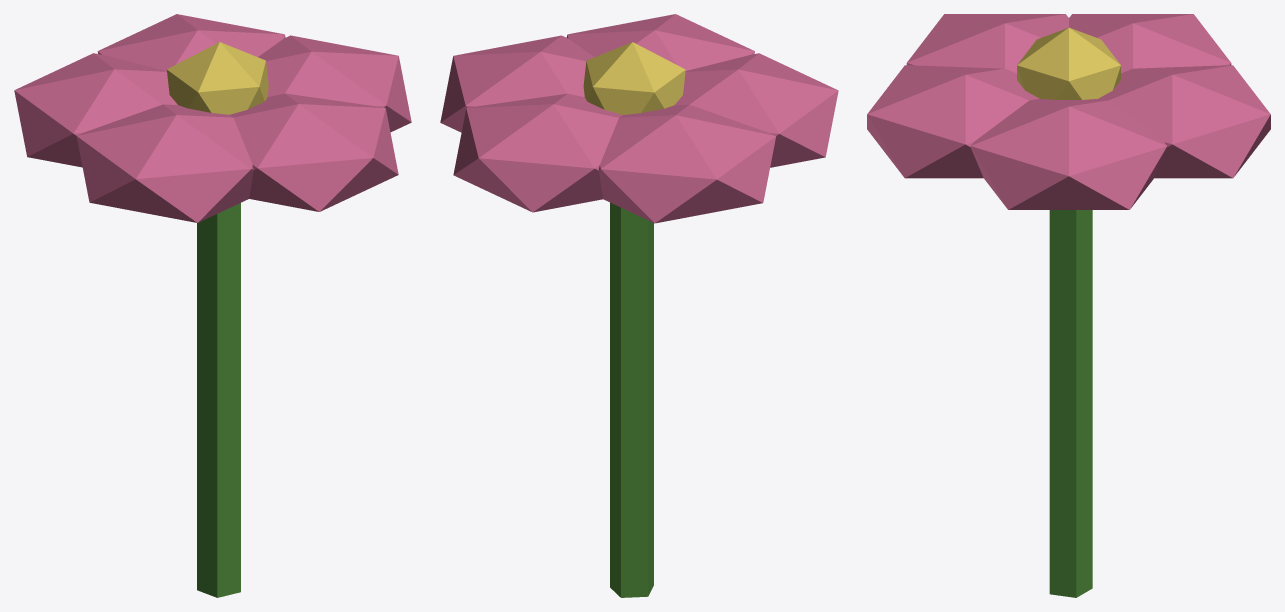
Rendered from flower_pink.glb.
3 views of the same model, side by side, from view 1: azimuth 30°, elevation 25°; view 2: azimuth 150°, elevation 25°; view 3: azimuth 270°, elevation 25° (orthographic). The views are drawn at different scales.
Visible parts, largest first — view 1: Cylinder; view 2: Cylinder; view 3: Cylinder.
Part boxes in pixels (x1,y1,x2,y2): Cylinder: [14, 14, 411, 597]; Cylinder: [440, 14, 838, 597]; Cylinder: [867, 14, 1270, 597].
Size of the model in its own units: 0.2493 by 0.3822 by 0.2493.
